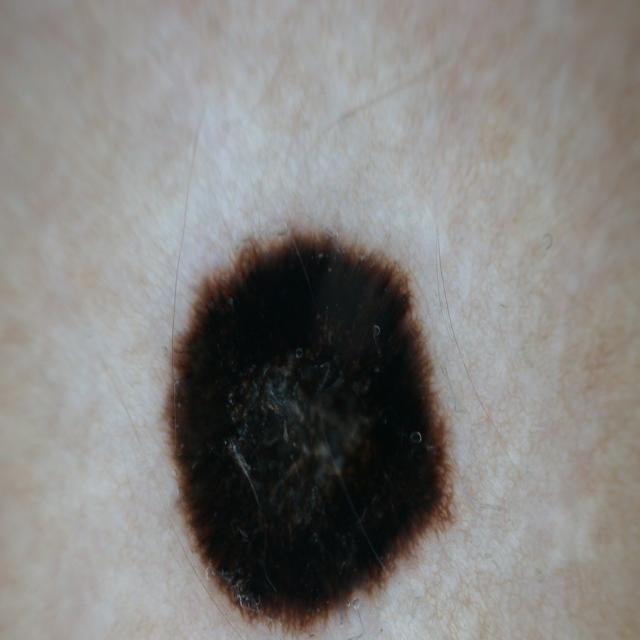Melanoma: (138, 197, 474, 640)
